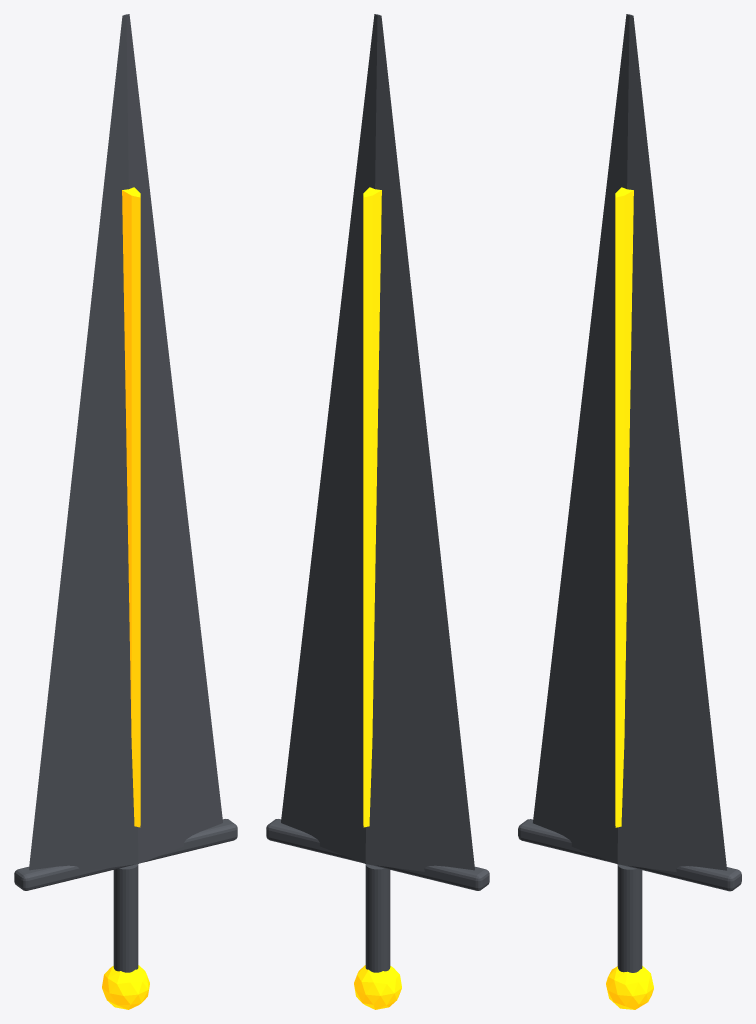
The model's file is cinder_cleaver_01_8103.glb.
3 views of the same model, side by side, from view 1: azimuth 30°, elevation 25°; view 2: azimuth 150°, elevation 25°; view 3: azimuth 330°, elevation 25° (orthographic).
Parts seen in each view (by area): view 1: Cylinder; view 2: Cylinder; view 3: Cylinder.
Boxes of the visible parts, x1,y1,x2,y2 form: Cylinder: (14, 14, 237, 1009); Cylinder: (266, 14, 489, 1009); Cylinder: (518, 14, 741, 1009).
Size of the model in its own units: 0.484 by 2.13 by 0.1113.
